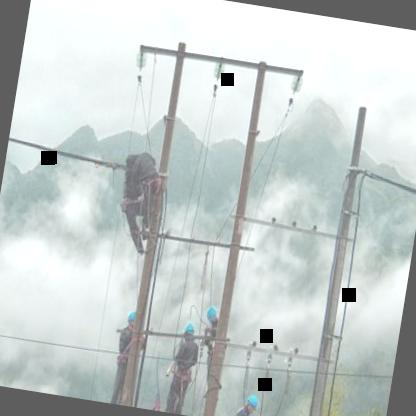helmet: (242, 390, 260, 414), (182, 318, 198, 341), (124, 308, 138, 331), (206, 305, 220, 327)
